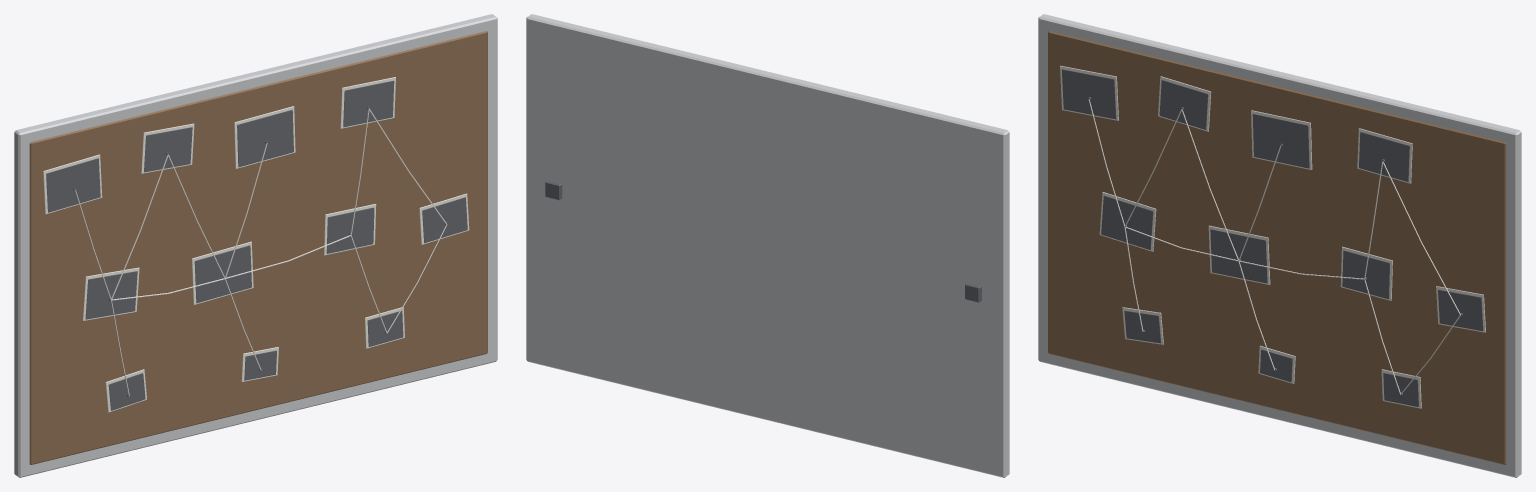
File: delegacia_quadro.glb
The picture shows the model from 3 angles, left to right: view 1: azimuth 30°, elevation 25°; view 2: azimuth 150°, elevation 25°; view 3: azimuth 330°, elevation 25°; orthographic projection.
Parts seen in each view (by area): view 1: evidence-board; view 2: evidence-board; view 3: evidence-board.
Boxes of the visible parts, x1,y1,x2,y2 form: evidence-board: (14,14,497,477); evidence-board: (526,14,1009,477); evidence-board: (1038,14,1521,477).
Size of the model in its own units: 1.6 by 1.1 by 0.0678.
